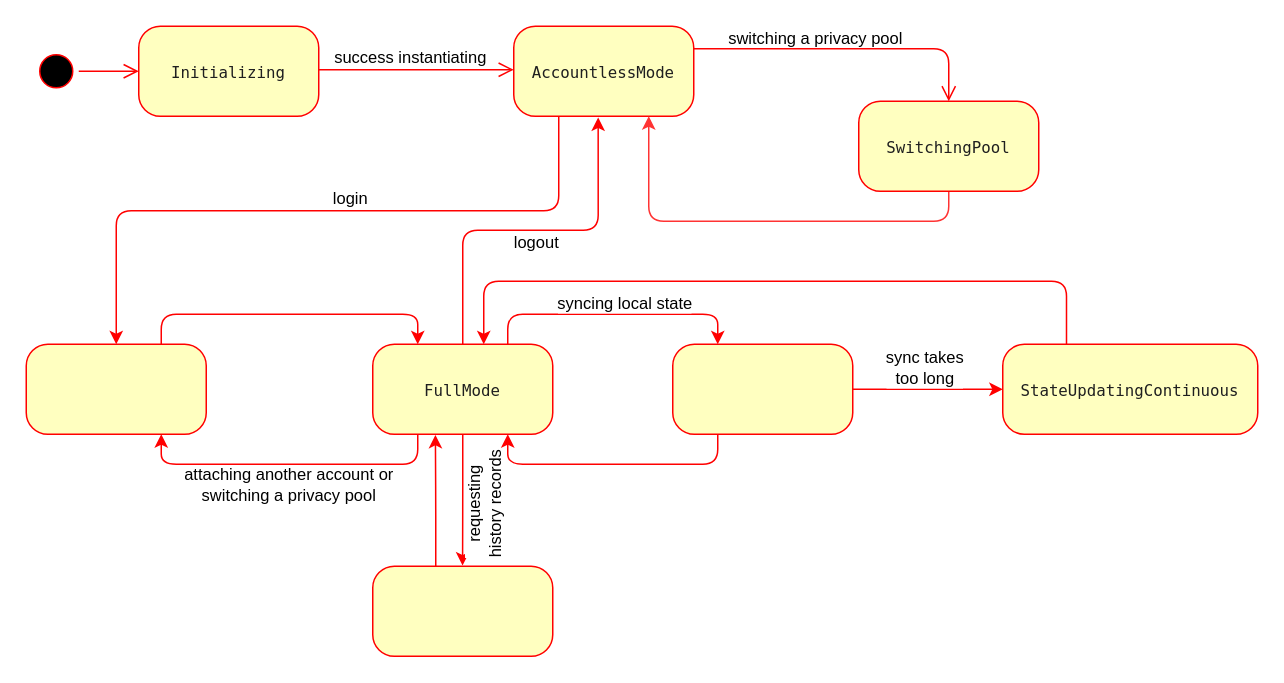
Image size: 1284x683. Some labels were removed from this diagram. Each missing label, with the box of its shape:
AttachingAccount: (25, 343, 206, 434)
HistoryUpdating: (371, 565, 553, 656)
StateUpdating: (671, 343, 853, 434)
